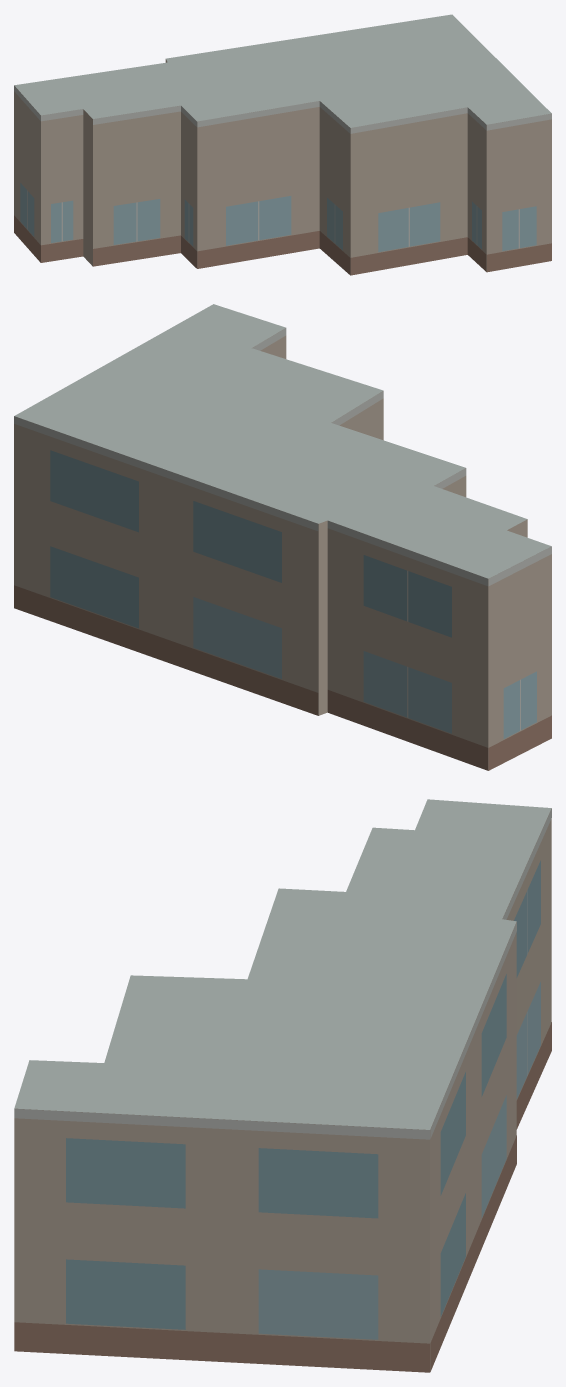
Rendered from survey-upis-32711402.glb.
The picture shows the model from 3 angles, top to bottom: view 1: azimuth 30°, elevation 25°; view 2: azimuth 150°, elevation 25°; view 3: azimuth 270°, elevation 25°; orthographic projection. The views are drawn at different scales.
Visible parts, largest first — view 1: survey-upis-32711402.tmp; view 2: survey-upis-32711402.tmp; view 3: survey-upis-32711402.tmp.
Boxes of the visible parts, box(x1,y1,x2,y2) form: survey-upis-32711402.tmp: box(14, 14, 551, 275); survey-upis-32711402.tmp: box(14, 304, 551, 770); survey-upis-32711402.tmp: box(14, 799, 551, 1372).
Bounding box in the file's own units: 17.85 × 6.1 × 12.26.
